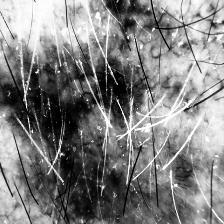Benign Marking or Mole: (0, 31, 199, 224)
